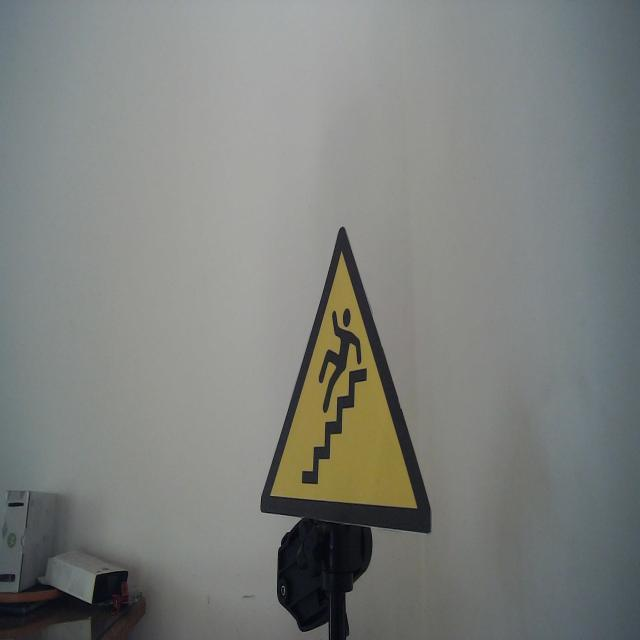stairs: (259, 224, 434, 538)
